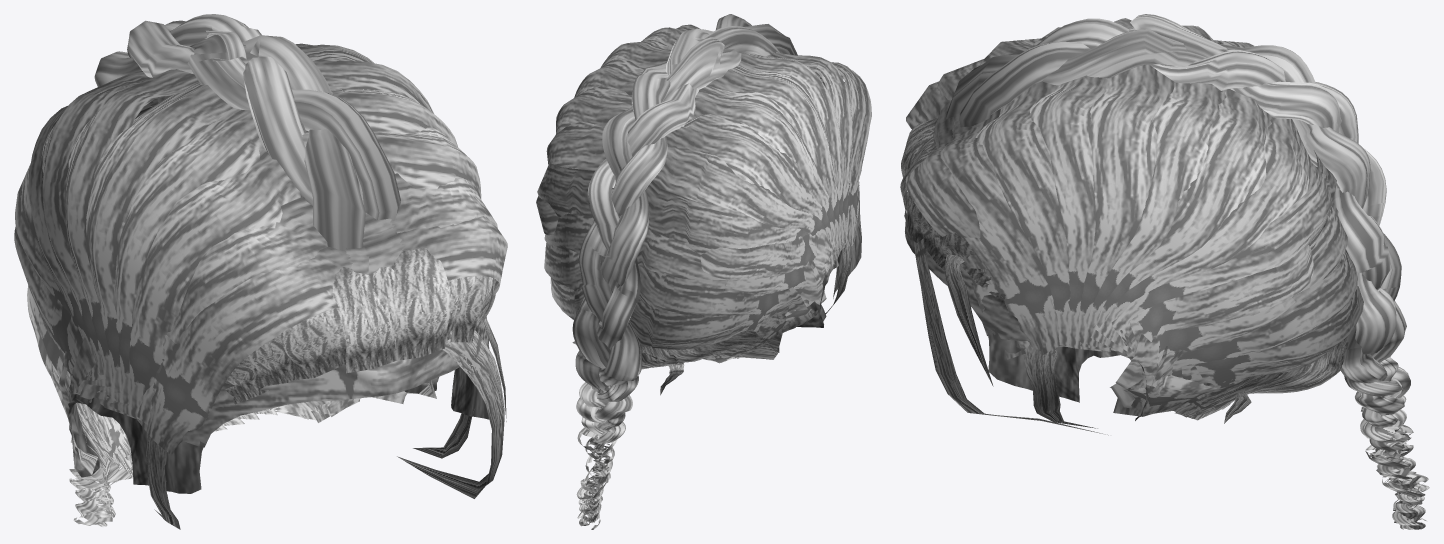
Rendered from hair_ponytail01.glb.
3 renders of one model, left to right at view 1: azimuth 30°, elevation 25°; view 2: azimuth 150°, elevation 25°; view 3: azimuth 270°, elevation 25°, orthographic. The views are drawn at different scales.
Visible parts, largest first — view 1: hair_ponytail01; view 2: hair_ponytail01; view 3: hair_ponytail01.
Boxes of the visible parts, x1=… form: hair_ponytail01: x1=14, y1=14, x2=507, y2=529; hair_ponytail01: x1=536, y1=14, x2=871, y2=529; hair_ponytail01: x1=900, y1=14, x2=1429, y2=529.
Bounding box in the file's own units: 0.1632 × 0.2503 × 0.2386.
Materials: 1 (1 with a texture image).
